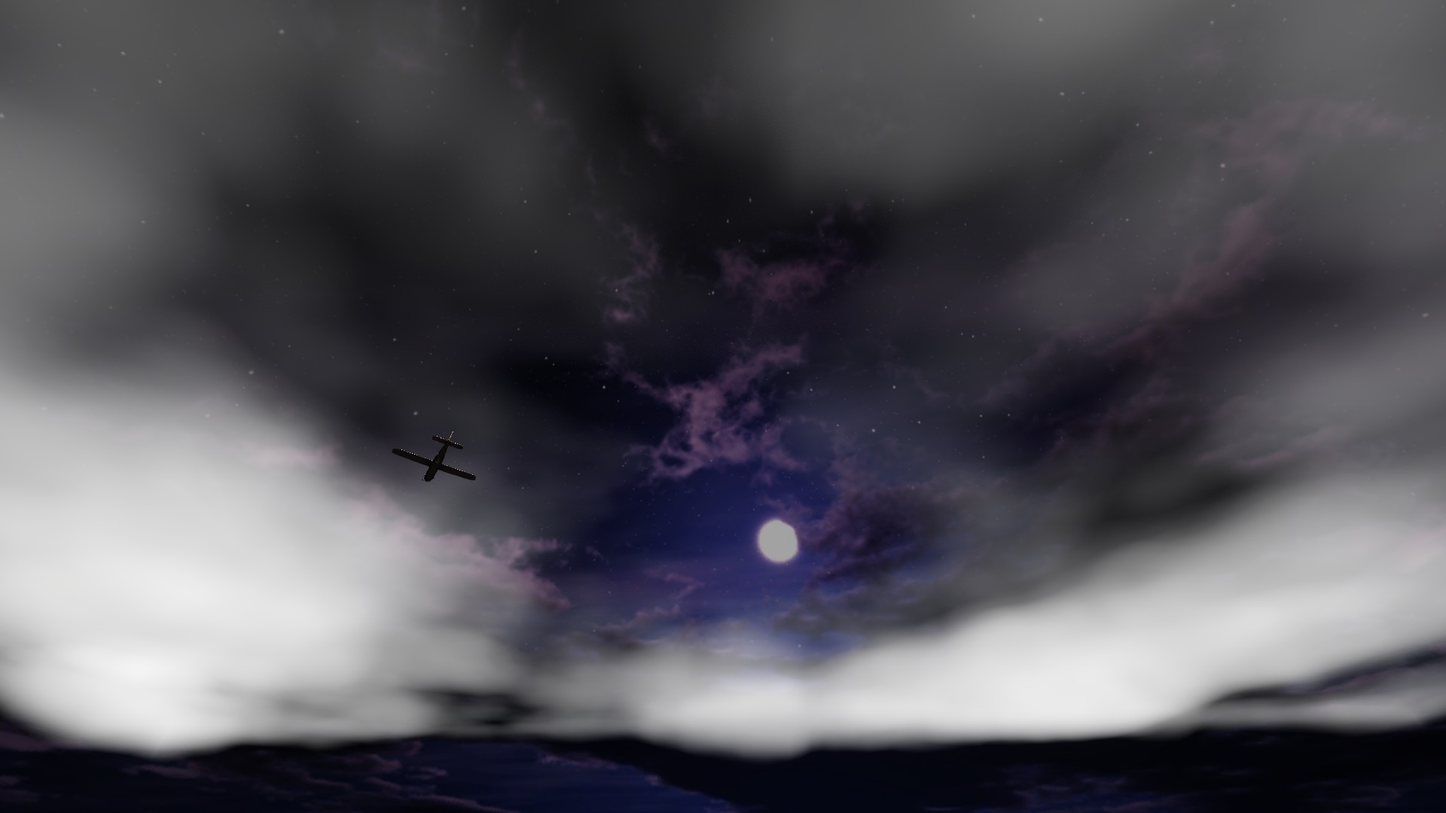drone_other: (392, 432, 476, 482)
